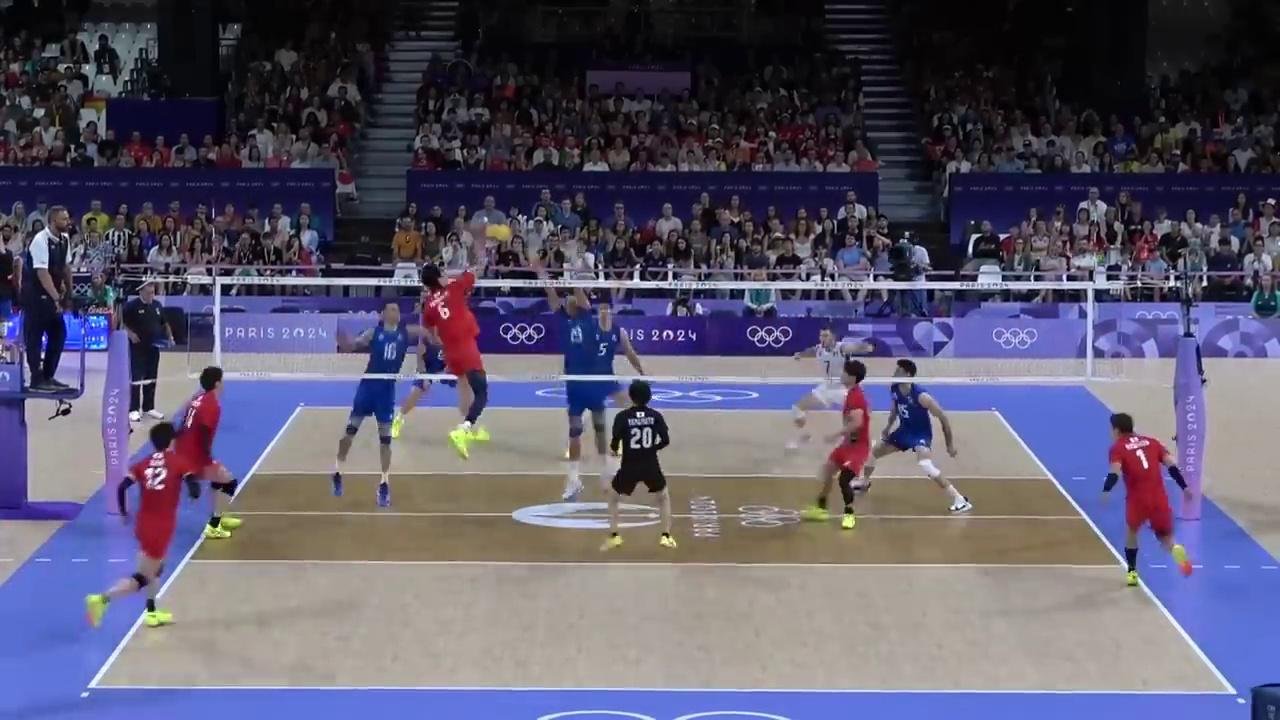ball: (487, 223, 511, 243)
